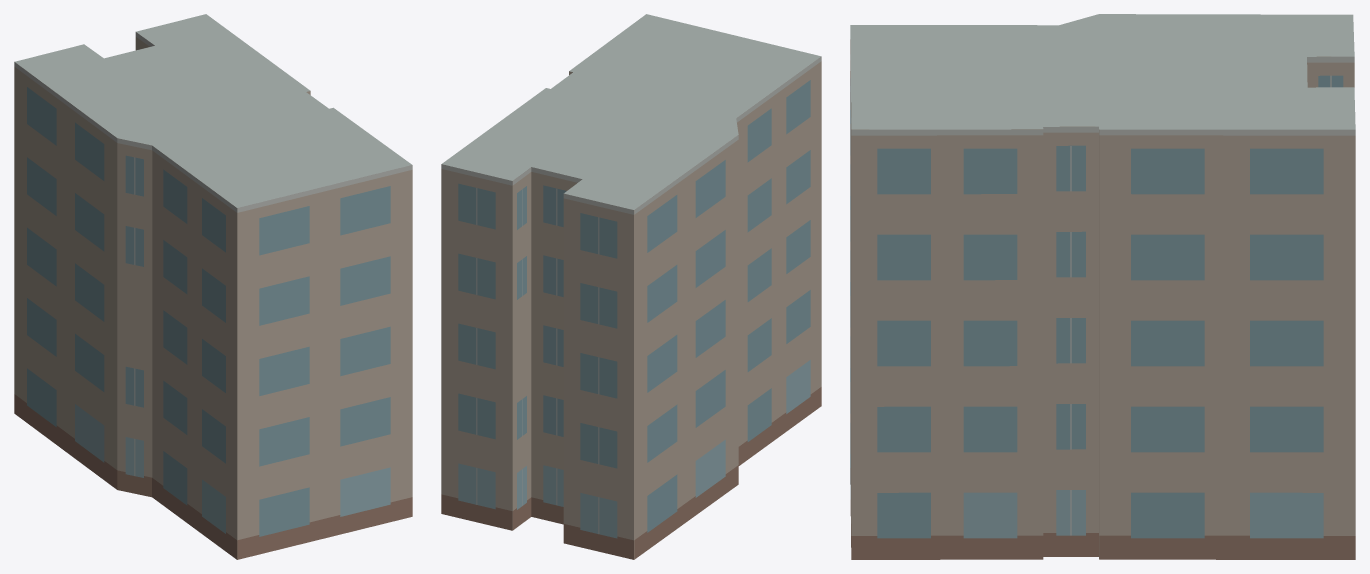
File: survey-upis-32708673.glb
3 views of the same model, side by side, from view 1: azimuth 30°, elevation 25°; view 2: azimuth 150°, elevation 25°; view 3: azimuth 270°, elevation 25° (orthographic). The views are drawn at different scales.
Parts seen in each view (by area): view 1: survey-upis-32708673.tmp; view 2: survey-upis-32708673.tmp; view 3: survey-upis-32708673.tmp.
Boxes of the visible parts, x1=… form: survey-upis-32708673.tmp: x1=14, y1=14, x2=412, y2=559; survey-upis-32708673.tmp: x1=441, y1=14, x2=821, y2=559; survey-upis-32708673.tmp: x1=850, y1=14, x2=1355, y2=559.
Size of the model in its own units: 10.29 by 17.82 by 18.98.
